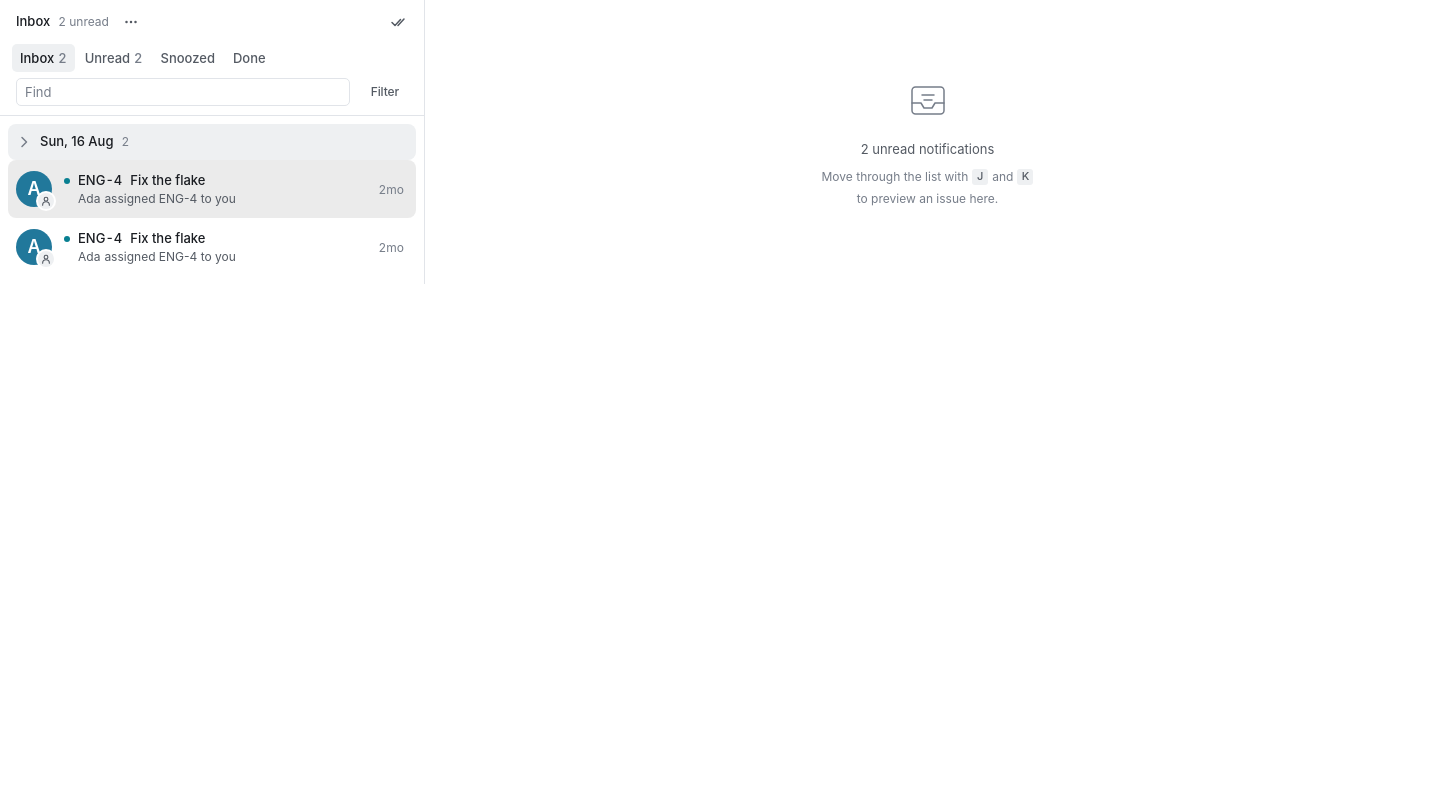
it: bulk actions over a selection › dismisses the whole selection and offers one undo for it
Type keys "x"
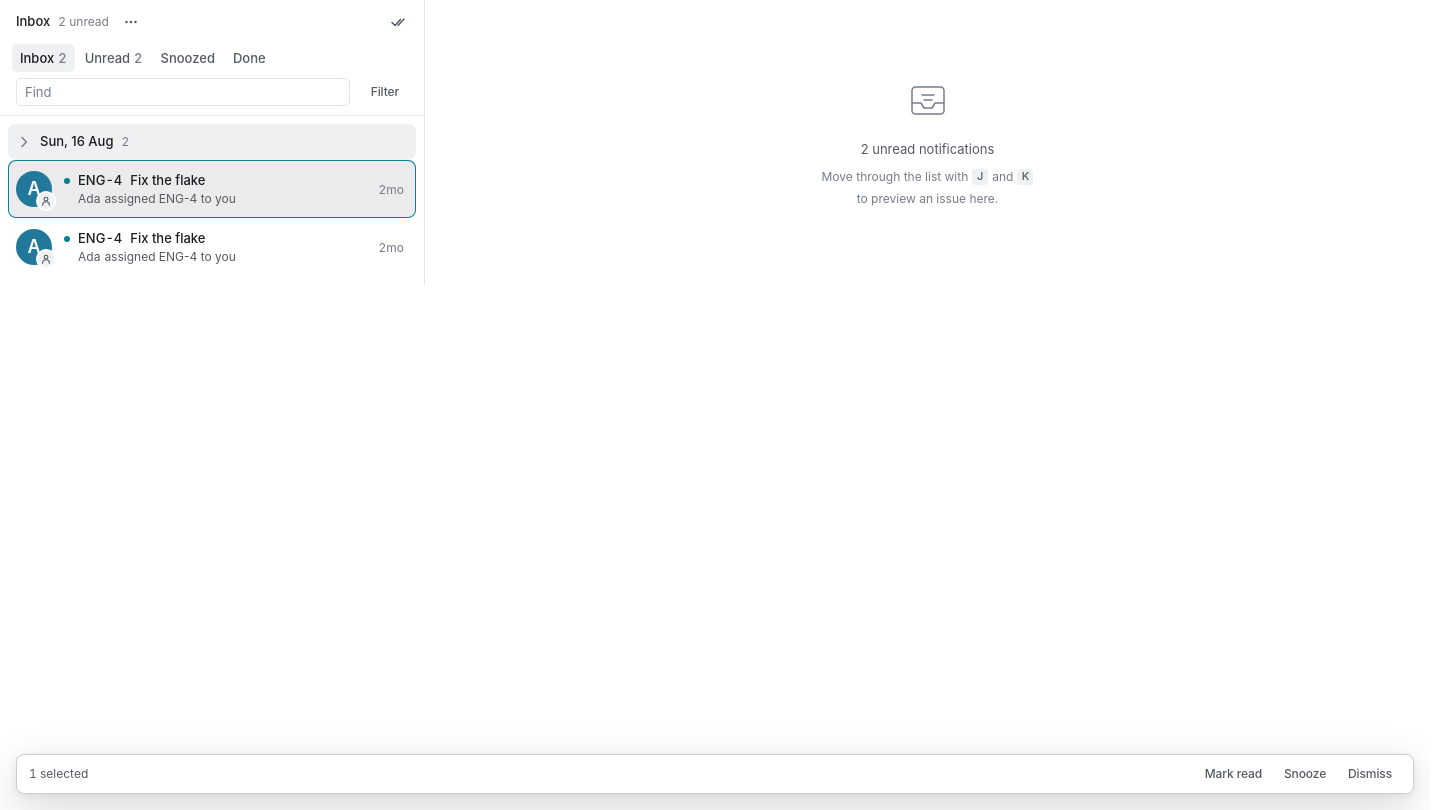
Type keys "{Shift>}{ArrowDown}{/Shift}"
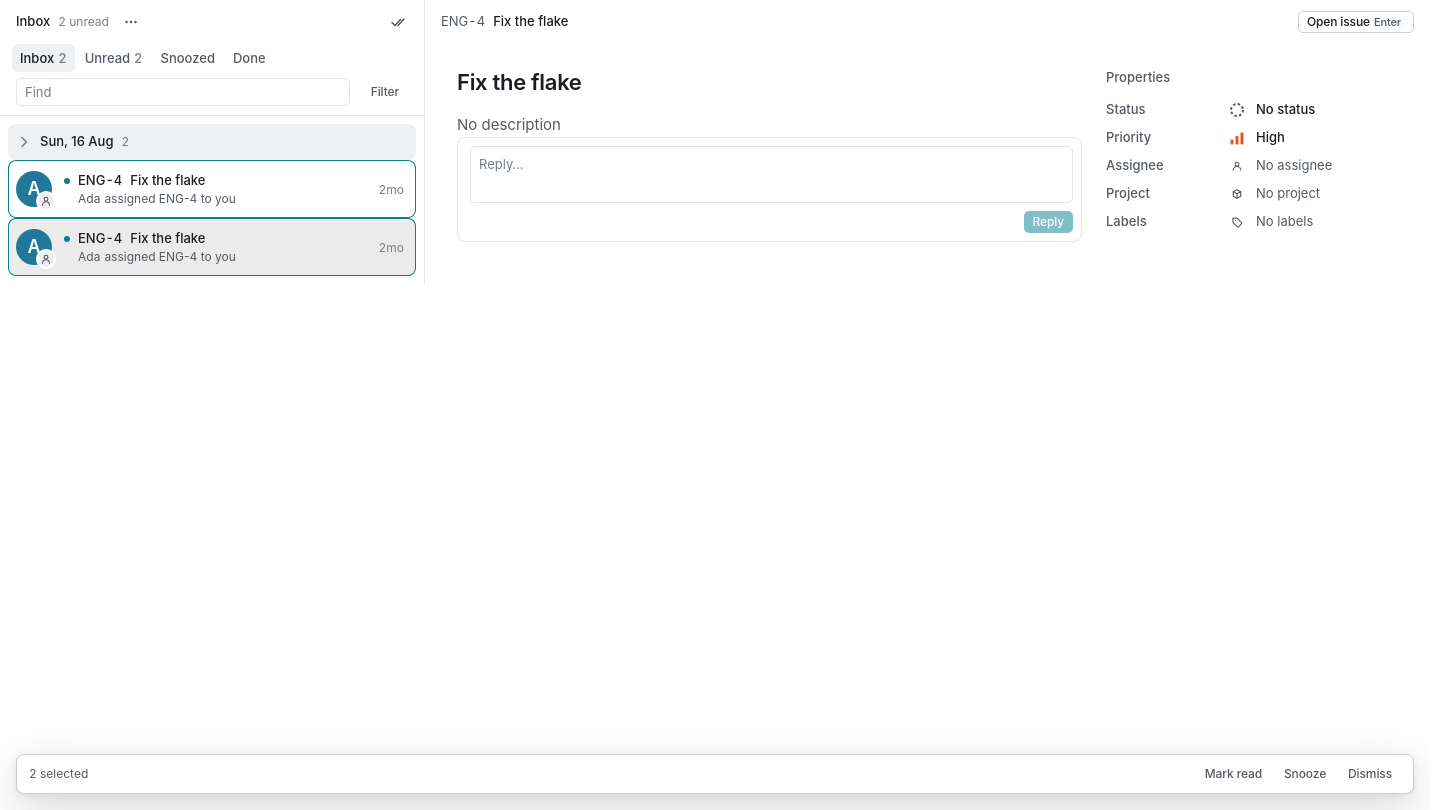
Click the button "Dismiss": (1370, 774) [1339,763,1401,785]
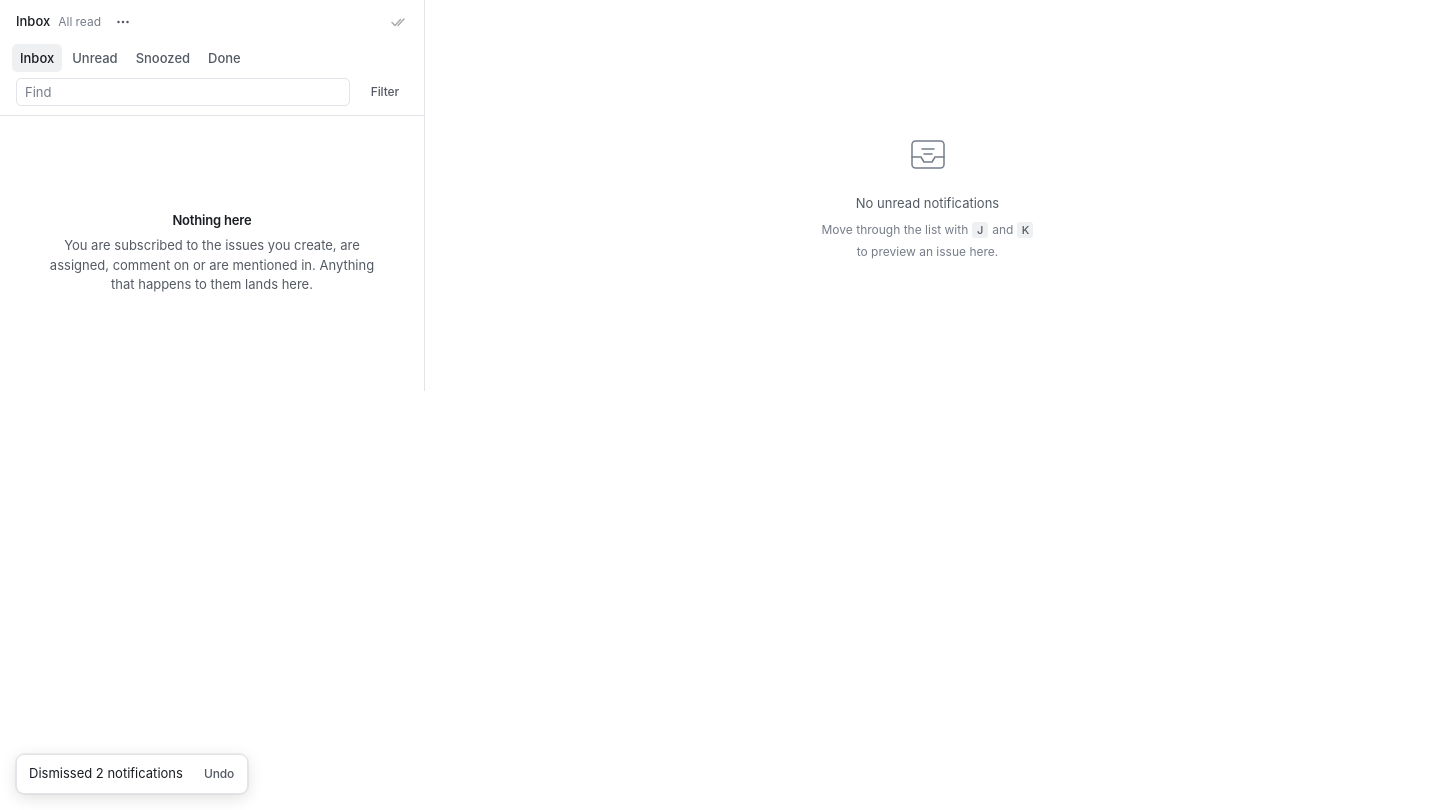
Check: the text "Dismissed 2 notifications" is shown, box [29,764,183,784]
